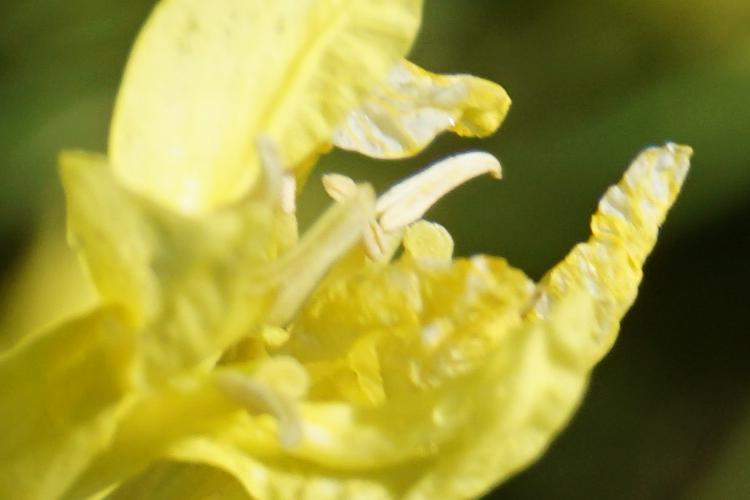yellow: (55, 18, 654, 486)
